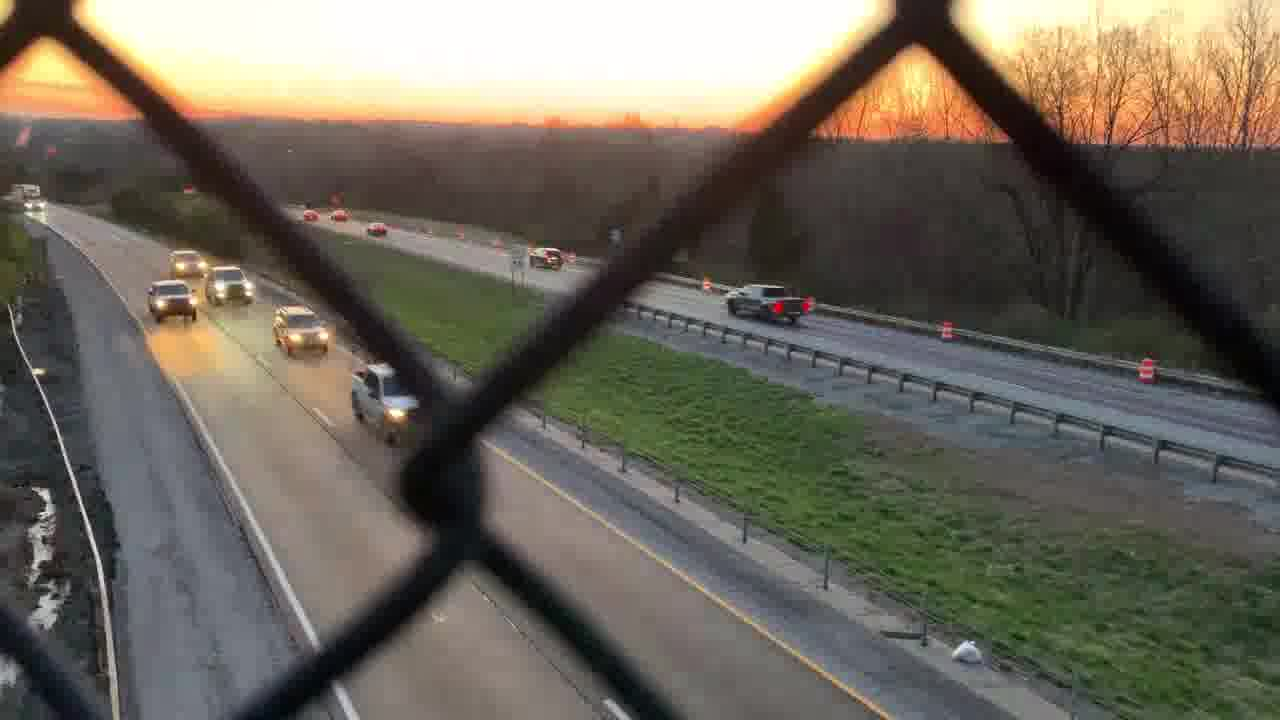heavyTruck: (11, 181, 54, 215)
largeCar: (271, 297, 333, 366), (165, 242, 206, 279), (525, 246, 577, 264)
lightTruck: (349, 350, 433, 451), (720, 279, 812, 327), (142, 272, 203, 327), (207, 260, 256, 307)
vehicle: (366, 218, 389, 245), (327, 207, 352, 222), (304, 205, 321, 224)
